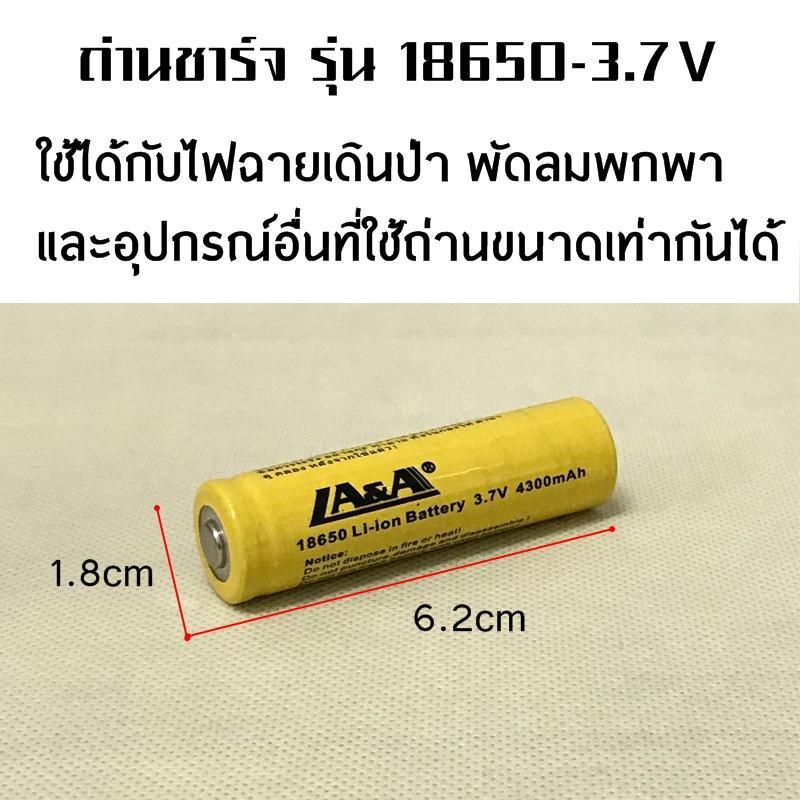Battery: (186, 394, 621, 610)
